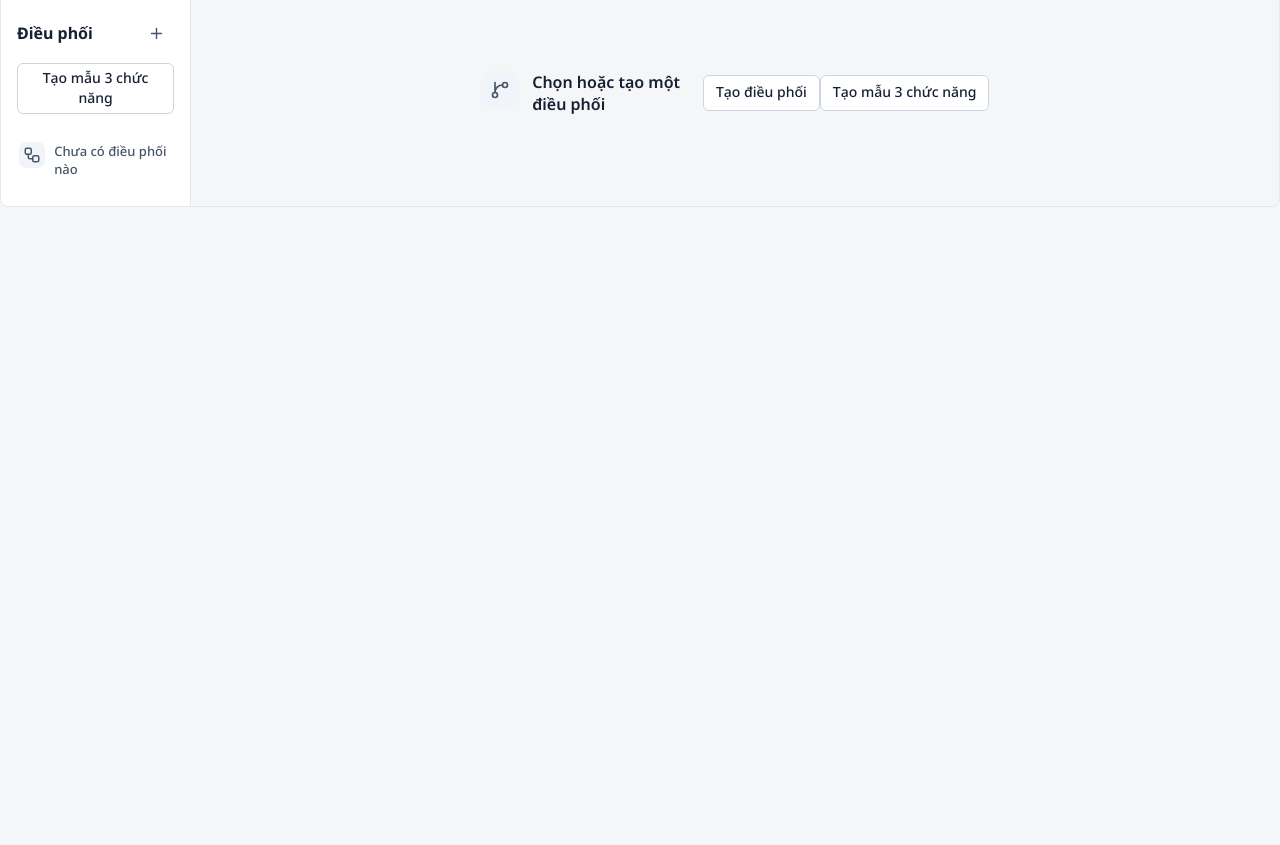
OrchestrationWorkspace › pins the selected profile revision in a new campaign node
Click the button "Tạo điều phối".
click(761, 93)  # box [703,75,820,111]
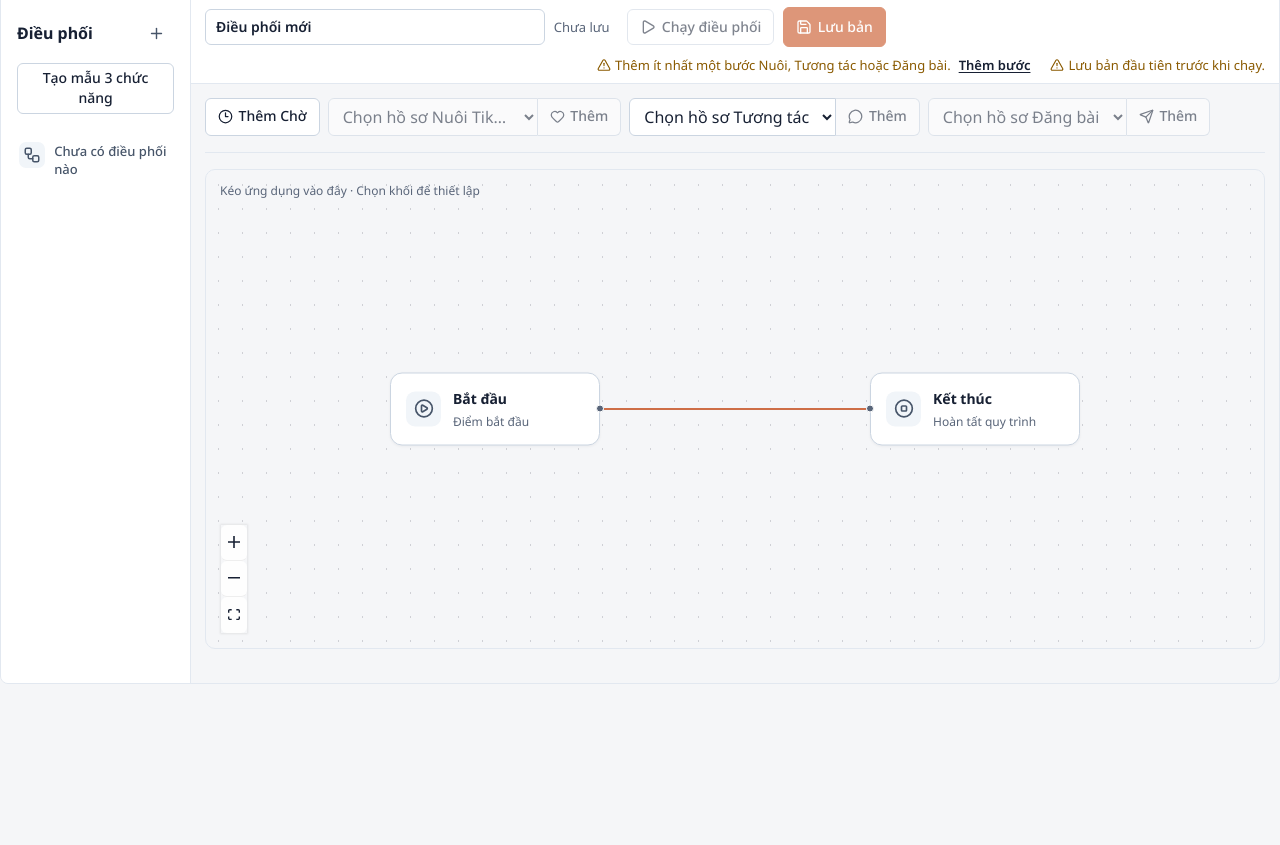
Result: the button with aria-label "Thêm Tương tác" is disabled at [836,98,920,136]
Select "Tương tác nhẹ · bản 4" in the dropdown named "Chọn hồ sơ Tương tác để thêm" at (733, 117), box [629,98,836,136]
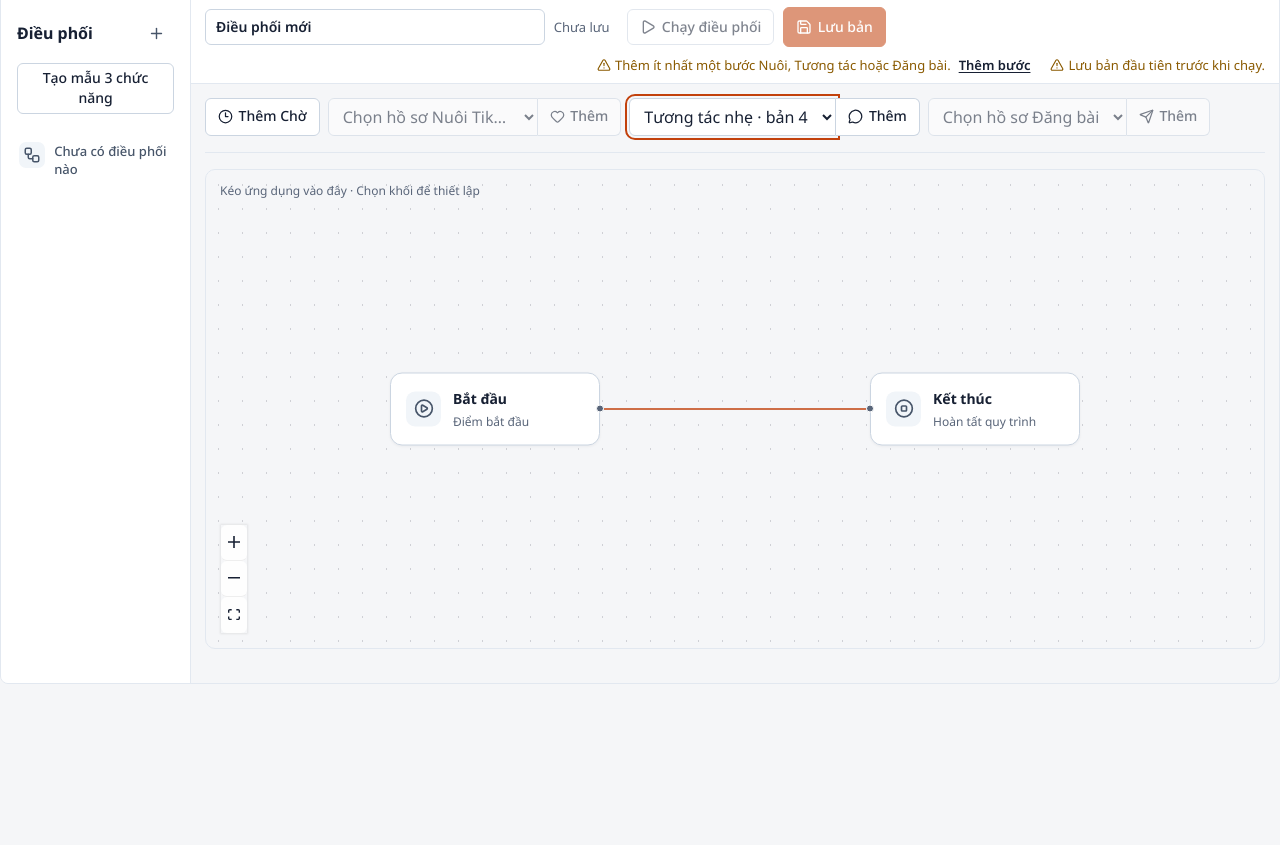
Click the button with aria-label "Thêm Tương tác".
click(878, 117)  # box [836,98,920,136]
(page scrolled)
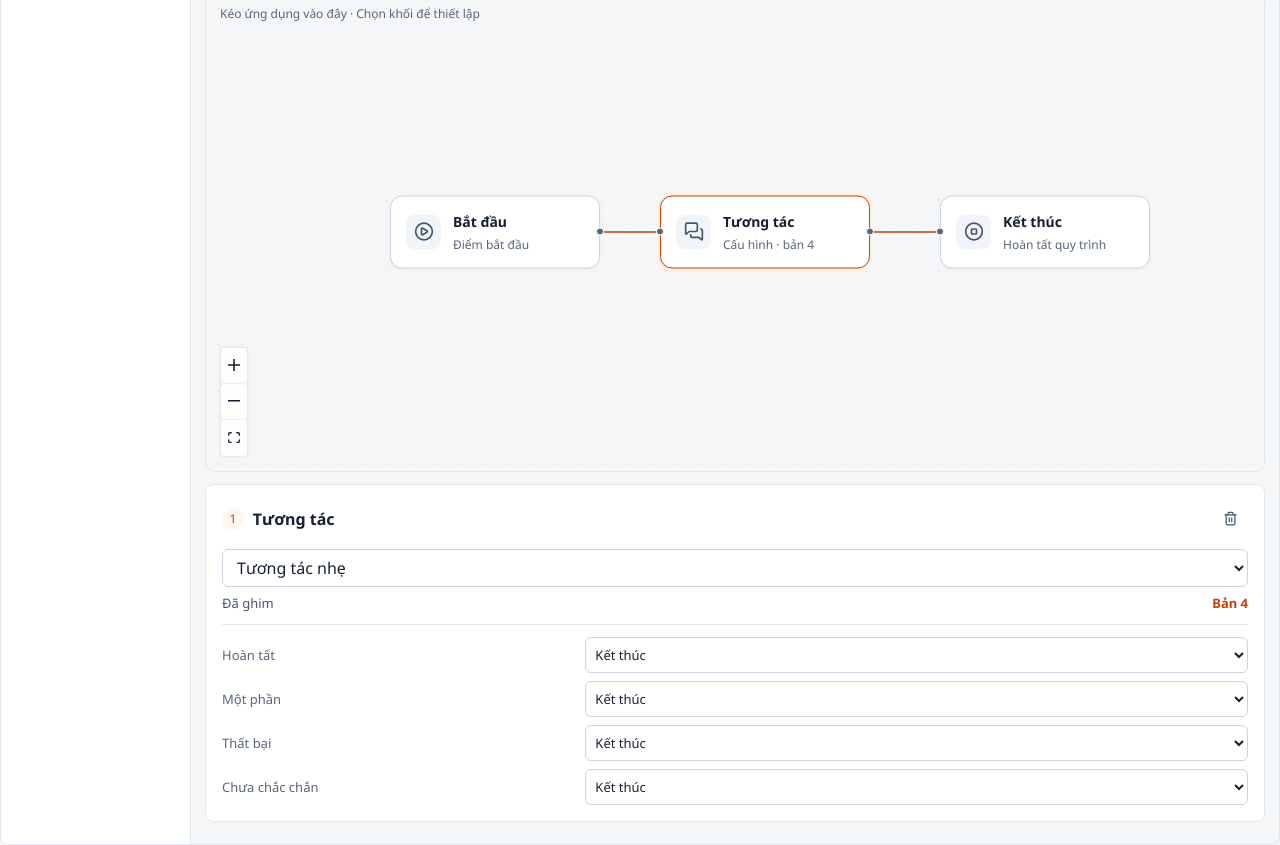
Result: the text "Bản 4" is shown at [1212,594,1248,612]
